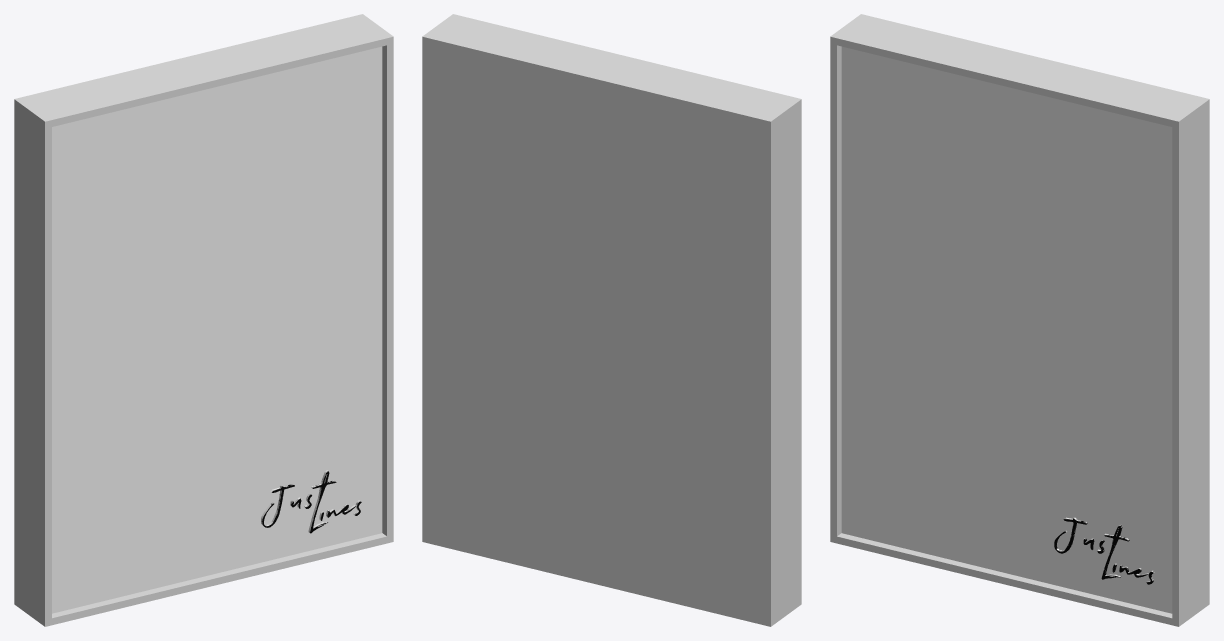
File: justlinesmodel-black.glb
The picture shows the model from 3 angles, left to right: view 1: azimuth 30°, elevation 25°; view 2: azimuth 150°, elevation 25°; view 3: azimuth 330°, elevation 25°; orthographic projection.
Parts seen in each view (by area): view 1: painting, frame; view 2: frame; view 3: painting, frame.
Boxes of the visible parts, x1,y1,x2,y2 form: painting: (52,46,382,613); frame: (14,14,393,626); frame: (422,14,801,626); painting: (841,46,1172,613); frame: (830,14,1209,626).
Size of the model in its own units: 0.13 by 0.18 by 0.02.
Materials: 6 (1 with a texture image).
